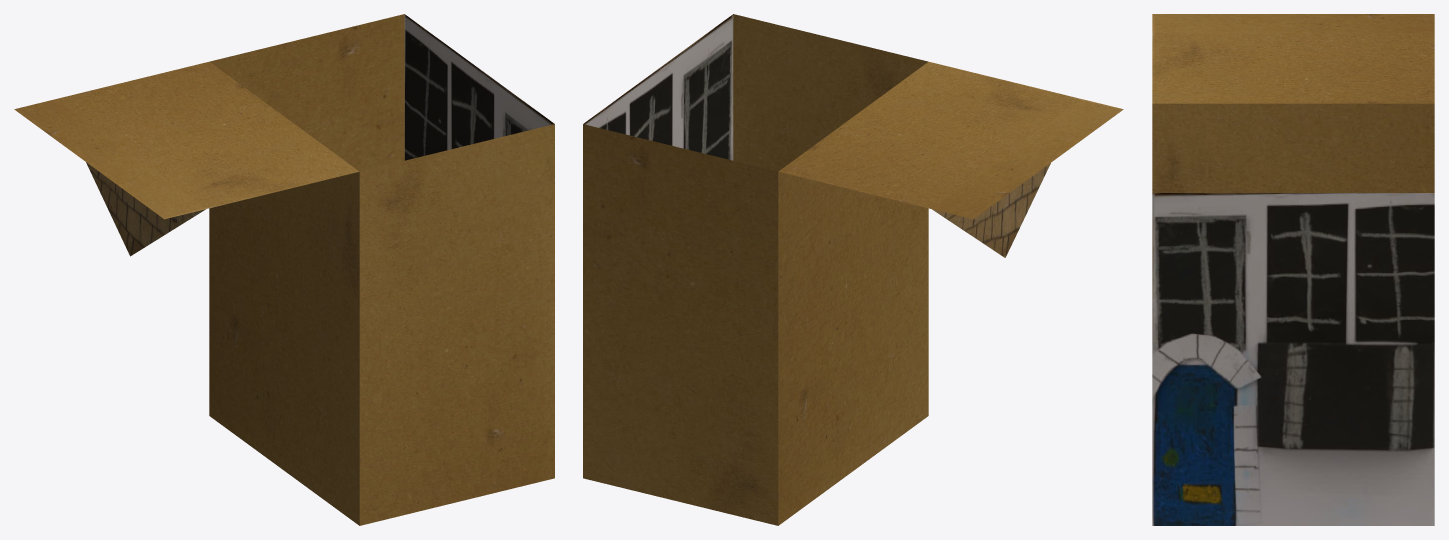
3 views of the same model, side by side, from view 1: azimuth 30°, elevation 25°; view 2: azimuth 150°, elevation 25°; view 3: azimuth 270°, elevation 25° (orthographic). The views are drawn at different scales.
Parts seen in each view (by area): view 1: Cube, Cube.002, Cube.003, Cube.001; view 2: Cube, Cube.002, Cube.003, Cube.001; view 3: Cube, Cube.002, Cube.003.
Boxes of the visible parts, left/top/right/bottom form: Cube: left=209, top=124, right=554, bottom=525; Cube.002: left=14, top=61, right=359, bottom=219; Cube.003: left=210, top=14, right=554, bottom=171; Cube.001: left=86, top=162, right=205, bottom=256; Cube: left=583, top=124, right=928, bottom=525; Cube.002: left=778, top=61, right=1123, bottom=219; Cube.003: left=583, top=14, right=927, bottom=171; Cube.001: left=932, top=163, right=1050, bottom=257; Cube: left=1152, top=193, right=1434, bottom=525; Cube.002: left=1152, top=14, right=1434, bottom=103; Cube.003: left=1152, top=103, right=1434, bottom=192.
Bounding box in the file's own units: 15 × 13 × 10.
Materials: 1 (1 with a texture image).
